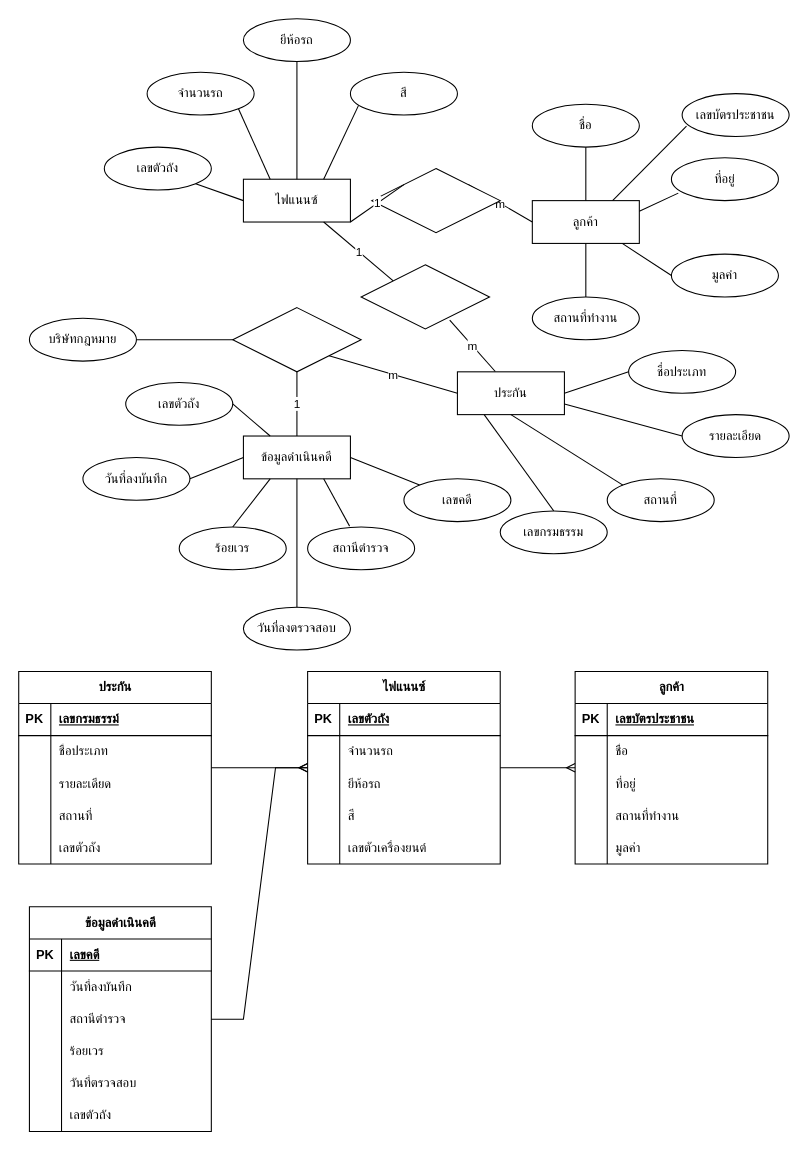
Some shapes in this 808 by 1150 pixel diagram are drawn without their labels. Here are the shapes that lost their labels. From the top down, the centre of each, then its label:
the point at 435,200: ขาย
the point at 425,296: เคลม
the point at 296,339: ลงบันทึกประจำวัน
